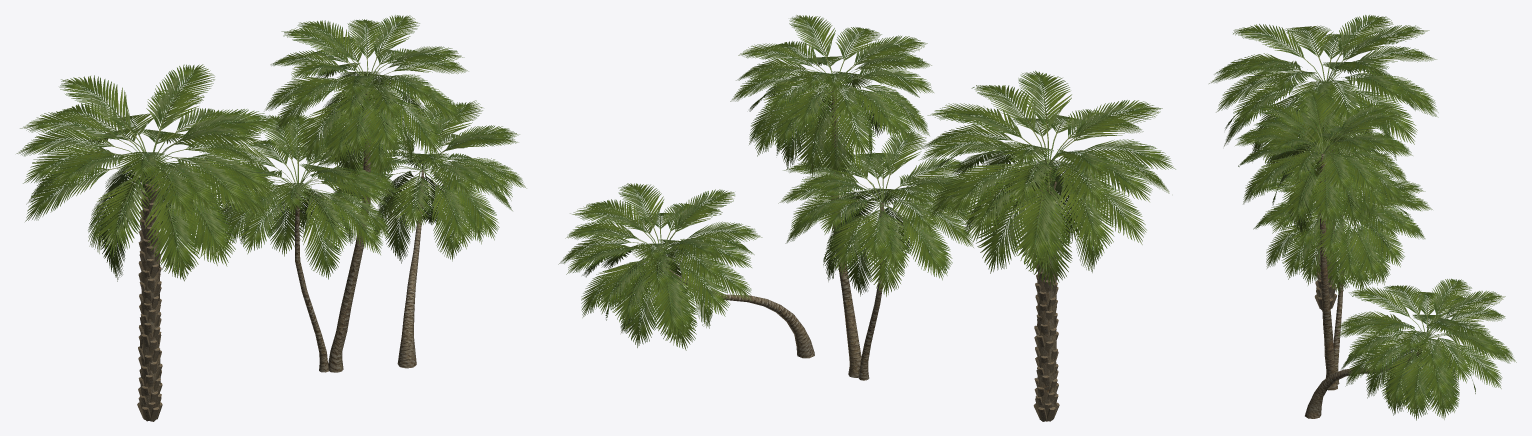
Rendered from 3 palm trees ok.fbx.
3 views of the same model, side by side, from view 1: azimuth 30°, elevation 25°; view 2: azimuth 150°, elevation 25°; view 3: azimuth 270°, elevation 25° (orthographic). The views are drawn at different scales.
Visible parts, largest first — view 1: polySurface271, polySurface97, polySurface302; view 2: polySurface271, polySurface97, polySurface302; view 3: polySurface271, polySurface97, polySurface302.
Part boxes in pixels (<box>): polySurface271: <box>200,15,468,372</box>; polySurface97: <box>16,64,277,421</box>; polySurface302: <box>320,100,526,368</box>; polySurface271: <box>730,15,981,380</box>; polySurface97: <box>918,70,1175,421</box>; polySurface302: <box>558,183,814,358</box>; polySurface271: <box>1235,89,1432,390</box>; polySurface97: <box>1209,15,1438,310</box>; polySurface302: <box>1305,278,1516,420</box>.
Bounding box in the file's own units: 1326 × 751 × 759.
8 materials, 8 textured.
